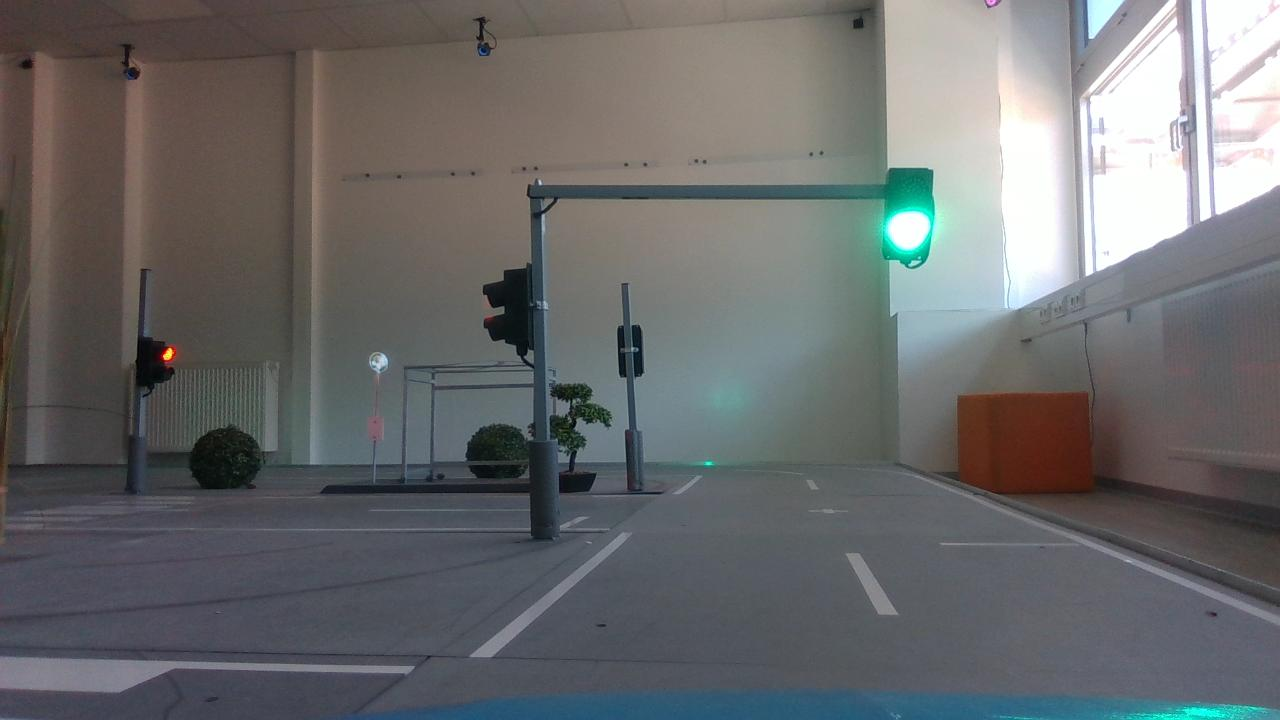traffic_light_green: (876, 146, 945, 286)
